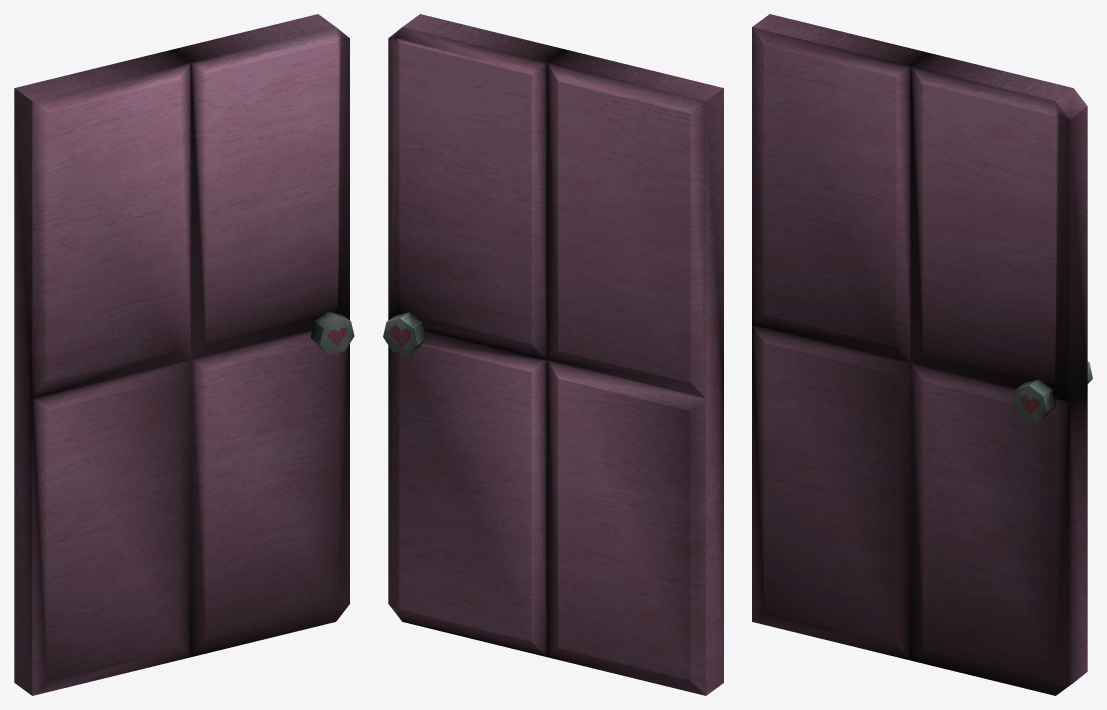
Rendered from LD56_Door.fbx.
3 views of the same model, side by side, from view 1: azimuth 30°, elevation 25°; view 2: azimuth 150°, elevation 25°; view 3: azimuth 330°, elevation 25° (orthographic).
Visible parts, largest first — view 1: Cube.001; view 2: Cube.001; view 3: Cube.001.
Boxes of the visible parts, <box> form: Cube.001: <box>14,14,354,695</box>; Cube.001: <box>383,14,723,695</box>; Cube.001: <box>752,14,1092,695</box>.
Size of the model in its own units: 357 by 638 by 90.08.
